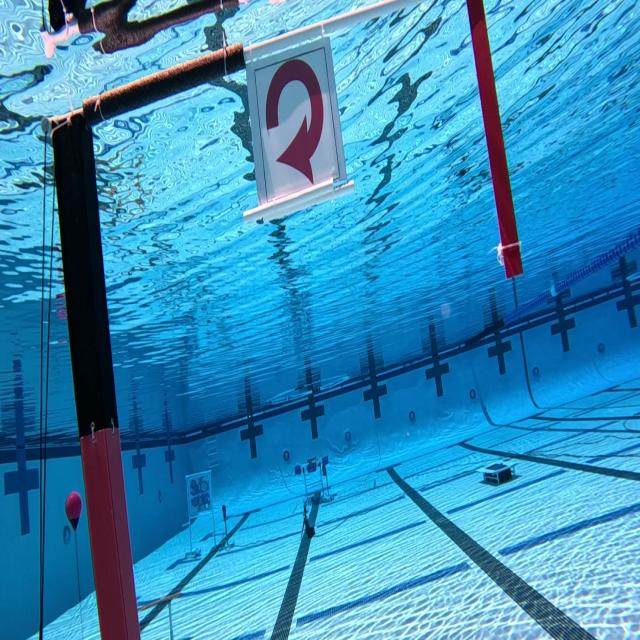blue_side: (245, 36, 348, 208)
